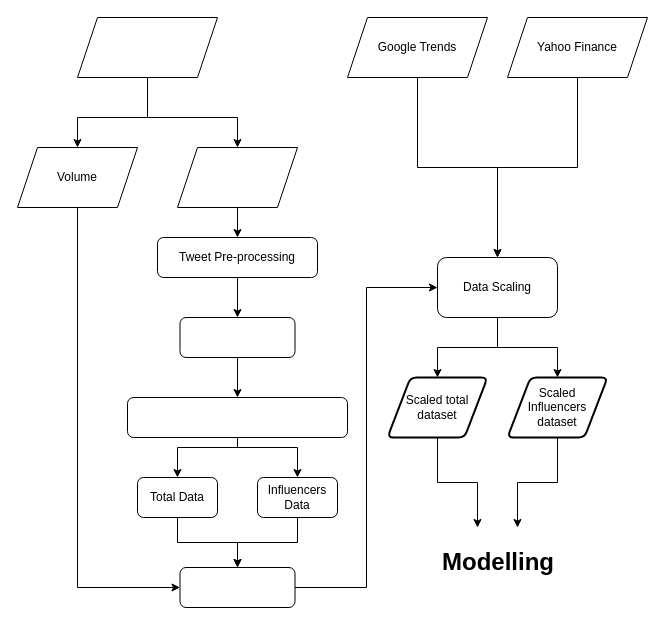
The diagram is 665 pixels wide and 625 high, and some of its shapes have lost their labels. The box of each missing label's shape, as (x1, y1, x2, y2) in pixels:
Data Encoding Influencers KMeans Clustering: (126, 396, 348, 438)
Hourly Average: (179, 566, 295, 608)
Tweet Sentiment Analysis: (179, 316, 295, 358)
Tweets: (176, 146, 298, 208)
Twitter Tweets & Volume: (76, 16, 218, 78)
